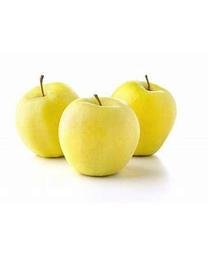apple: (58, 94, 140, 176), (111, 74, 177, 155), (14, 75, 78, 158)
